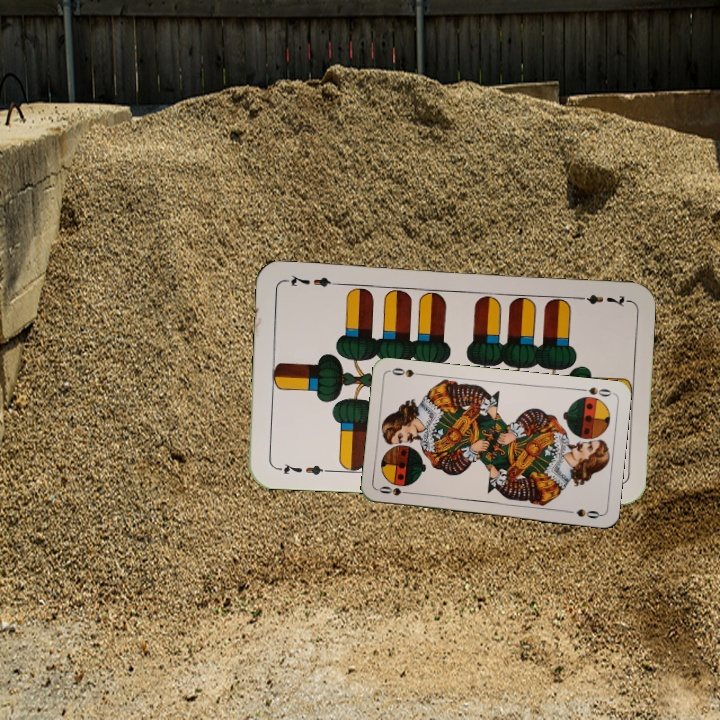E7: (272, 459, 332, 478), (570, 291, 629, 309)
SO: (375, 482, 416, 498), (575, 383, 614, 399)
